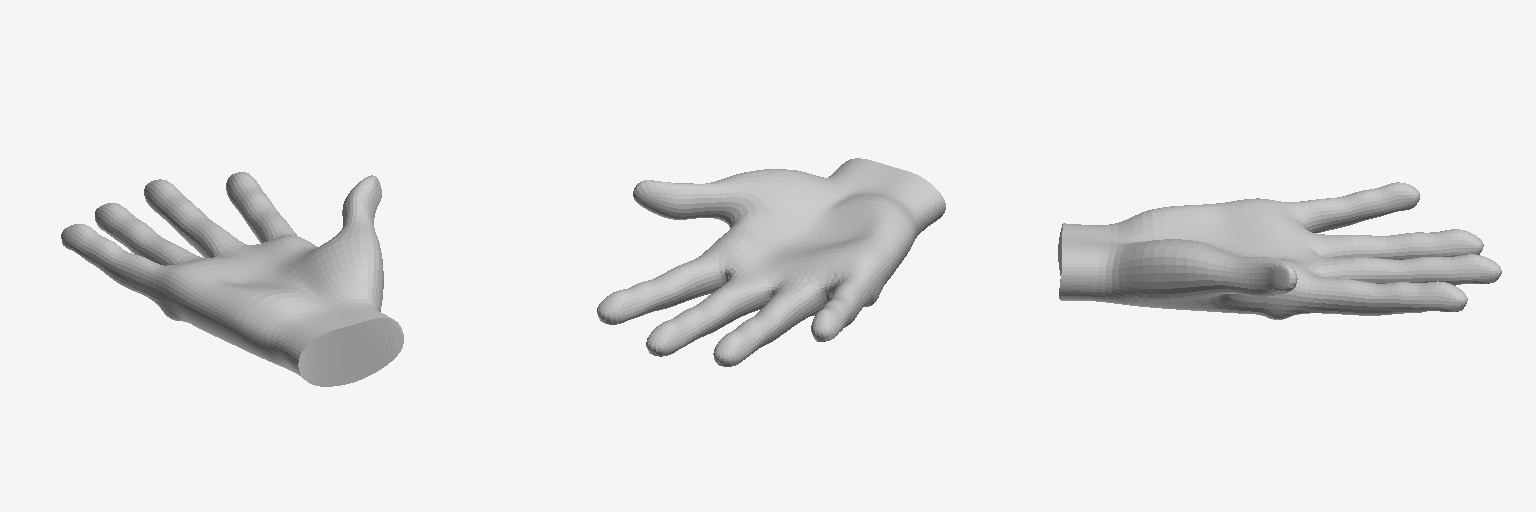
Rendered from EESHands.obj.
The picture shows the model from 3 angles: view 1: azimuth 30°, elevation 25°; view 2: azimuth 150°, elevation 25°; view 3: azimuth 270°, elevation 25°; orthographic projection.
Visible parts, largest first — view 1: base_hand_o_base_hand_m; view 2: base_hand_o_base_hand_m; view 3: base_hand_o_base_hand_m.
Part boxes in pixels (x1,y1,x2,y2): base_hand_o_base_hand_m: (61,172,403,386); base_hand_o_base_hand_m: (597,158,945,366); base_hand_o_base_hand_m: (1058,182,1501,319).
Size of the model in its own units: 1.53 by 0.5471 by 2.27.